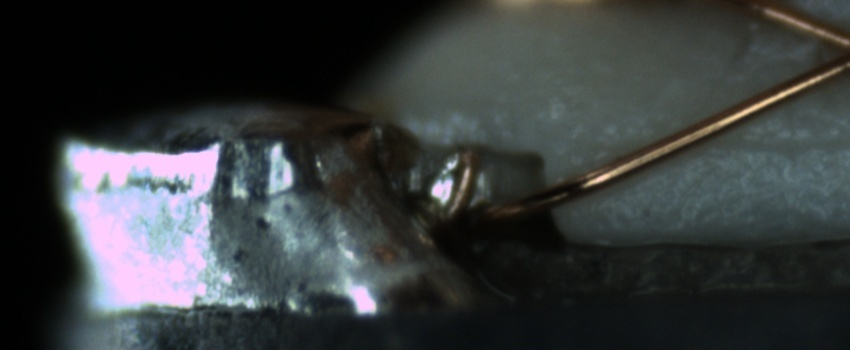CL: (795, 4, 850, 92)
DL: (690, 113, 845, 177)
TE: (434, 137, 485, 241)
